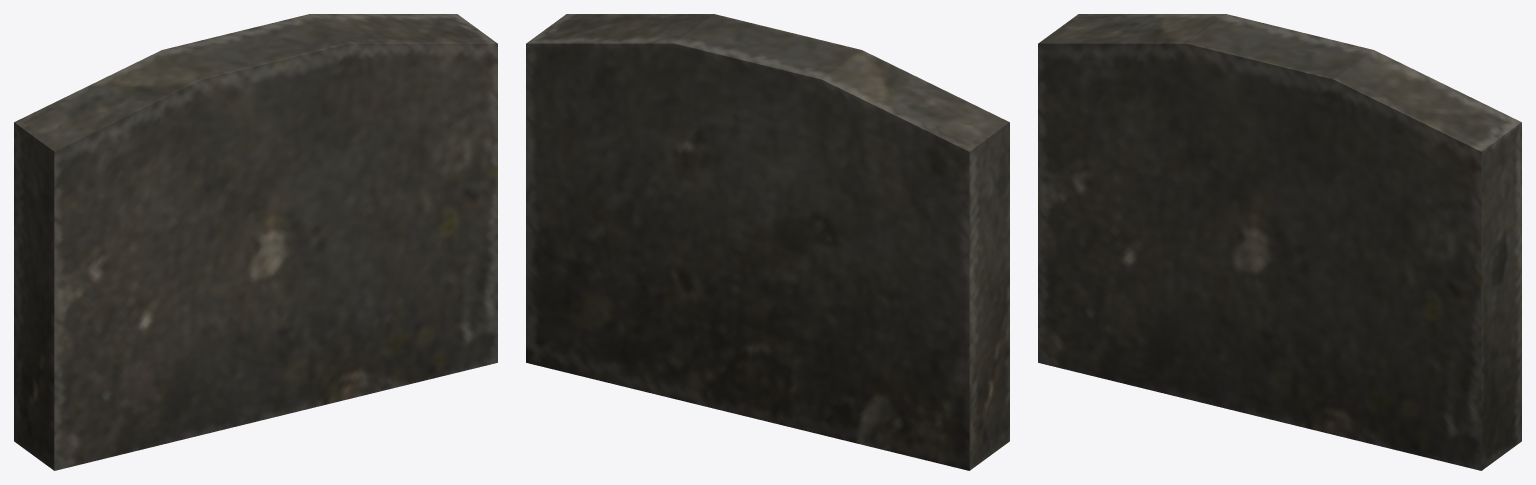
Rendered from Headstone_6.fbx.
3 renders of one model, left to right at view 1: azimuth 30°, elevation 25°; view 2: azimuth 150°, elevation 25°; view 3: azimuth 330°, elevation 25°, orthographic.
Parts seen in each view (by area): view 1: Headstone_6; view 2: Headstone_6; view 3: Headstone_6.
Part boxes in pixels (x1,y1,x2,y2): Headstone_6: (14, 14, 497, 470); Headstone_6: (526, 14, 1009, 470); Headstone_6: (1038, 14, 1521, 470).
Bounding box in the file's own units: 76.27 × 58.41 × 12.03.
